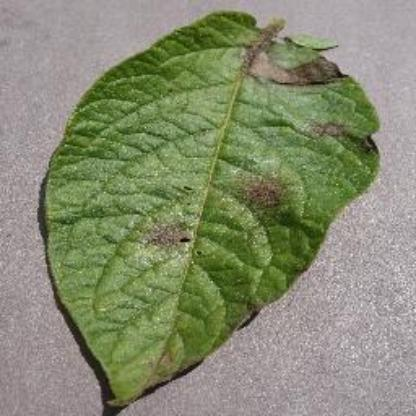Late-Blight: (31, 8, 394, 410)
